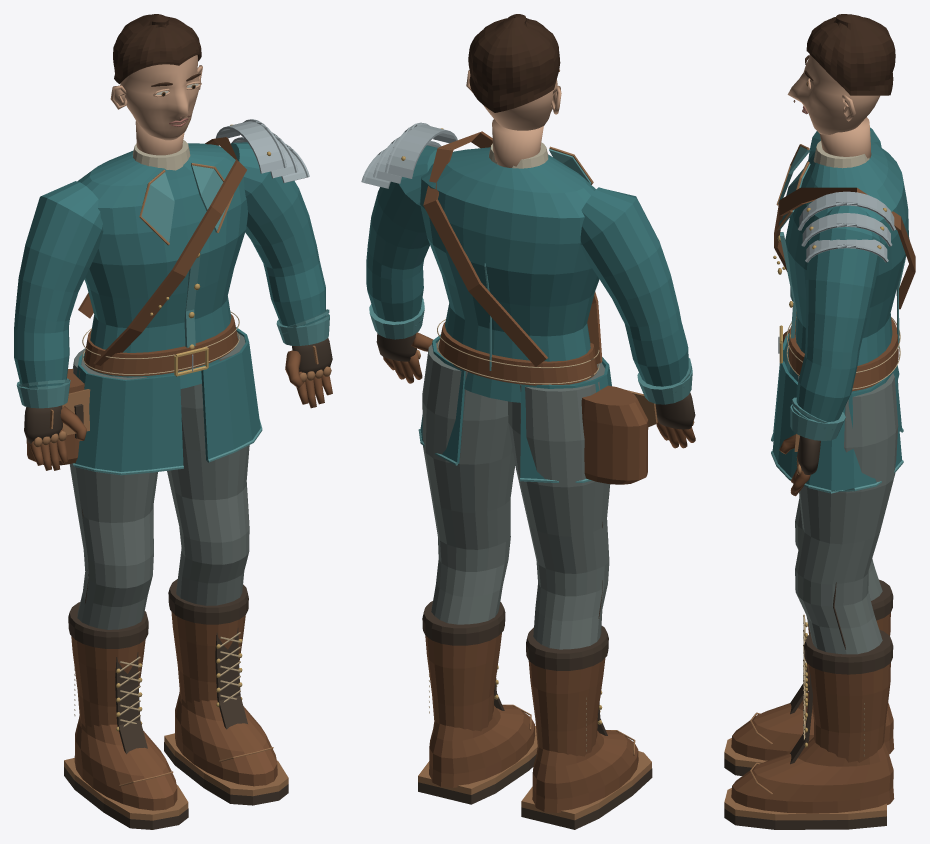
The model's file is Wayfarer_Review_v02.fbx.
3 renders of one model, left to right at view 1: azimuth 30°, elevation 25°; view 2: azimuth 150°, elevation 25°; view 3: azimuth 270°, elevation 25°, orthographic. The views are drawn at different scales.
Visible parts, largest first — view 1: Fitted coat body, L trousers, R fitted sleeve, R trousers, Split coat skirt, L fitted sleeve, R shaped boot foot, L shaped boot foot, Split coat skirt.001, Sculpted face and cranium, Shoulder strap, Hair mass with shaped hairline (+23 smaller); view 2: Fitted coat body, R trousers, L trousers, R fitted sleeve, L fitted sleeve, Hair mass with shaped hairline, R shaped boot foot, L shaped boot foot, Travel satchel, L boot shaft, R boot shaft, Shoulder strap (+16 smaller); view 3: L trousers, L fitted sleeve, Fitted coat body, L shaped boot foot, L boot shaft, Hair mass with shaped hairline, Split coat skirt.001, R shaped boot foot, Sculpted face and cranium, Shoulder strap, L boot cuff, Main belt (+19 smaller).
Boxes of the visible parts, x1=… form: Fitted coat body: x1=77, y1=143, x2=247, y2=388; L trousers: x1=167, y1=333, x2=249, y2=605; R fitted sleeve: x1=14, y1=181, x2=103, y2=387; R trousers: x1=69, y1=348, x2=157, y2=629; Split coat skirt: x1=75, y1=352, x2=183, y2=471; L fitted sleeve: x1=230, y1=142, x2=325, y2=326; R shaped boot foot: x1=74, y1=716, x2=177, y2=810; L shaped boot foot: x1=175, y1=691, x2=277, y2=786; Split coat skirt.001: x1=201, y1=327, x2=260, y2=460; Sculpted face and cranium: x1=120, y1=55, x2=199, y2=140; Shoulder strap: x1=78, y1=137, x2=246, y2=365; Hair mass with shaped hairline: x1=113, y1=14, x2=201, y2=83; Fitted coat body: x1=420, y1=147, x2=599, y2=402; R trousers: x1=508, y1=362, x2=610, y2=649; L trousers: x1=422, y1=342, x2=515, y2=624; R fitted sleeve: x1=580, y1=187, x2=688, y2=386; L fitted sleeve: x1=366, y1=145, x2=437, y2=321; Hair mass with shaped hairline: x1=468, y1=14, x2=560, y2=112; R shaped boot foot: x1=532, y1=730, x2=638, y2=812; L shaped boot foot: x1=429, y1=704, x2=535, y2=787; Travel satchel: x1=581, y1=385, x2=648, y2=484; L boot shaft: x1=425, y1=633, x2=501, y2=731; R boot shaft: x1=528, y1=658, x2=605, y2=756; Shoulder strap: x1=423, y1=131, x2=602, y2=366; L trousers: x1=795, y1=373, x2=898, y2=654; L fitted sleeve: x1=796, y1=205, x2=882, y2=421; Fitted coat body: x1=785, y1=140, x2=908, y2=392; L shaped boot foot: x1=731, y1=737, x2=894, y2=813; L boot shaft: x1=807, y1=663, x2=890, y2=762; Hair mass with shaped hairline: x1=806, y1=14, x2=895, y2=95; Split coat skirt.001: x1=772, y1=361, x2=901, y2=490; R shaped boot foot: x1=731, y1=692, x2=894, y2=760; Sculpted face and cranium: x1=787, y1=54, x2=879, y2=134; Shoulder strap: x1=774, y1=187, x2=915, y2=309; L boot cuff: x1=804, y1=630, x2=893, y2=674; Main belt: x1=788, y1=318, x2=898, y2=391.
Bounding box in the file's own units: 79.79 × 187 × 42.
